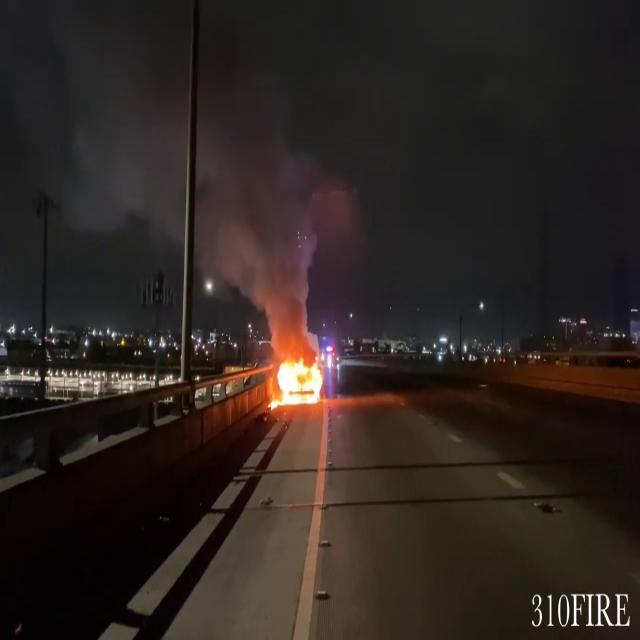Fire: (266, 348, 332, 410)
Smoke: (35, 0, 328, 327)
